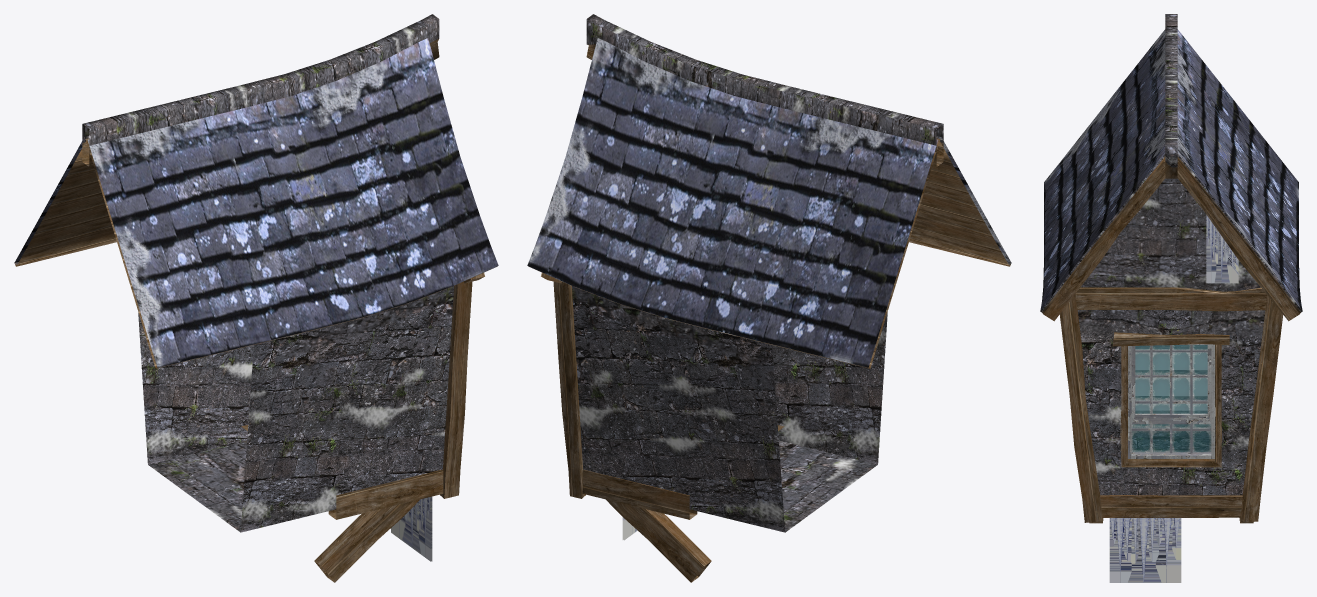
The model's file is loft.fbx.
The picture shows the model from 3 angles, left to right: view 1: azimuth 30°, elevation 25°; view 2: azimuth 150°, elevation 25°; view 3: azimuth 270°, elevation 25°; orthographic projection. The views are drawn at different scales.
Parts seen in each view (by area): view 1: loft; view 2: loft; view 3: loft, loft_window.
Part boxes in pixels (x1=…): loft: x1=14, y1=14, x2=498, y2=582; loft: x1=527, y1=14, x2=1011, y2=582; loft: x1=1040, y1=14, x2=1302, y2=582; loft_window: x1=1131, y1=345, x2=1211, y2=452.
Size of the model in its own units: 278 by 388 by 203.
Materials: 6 (6 with a texture image).
